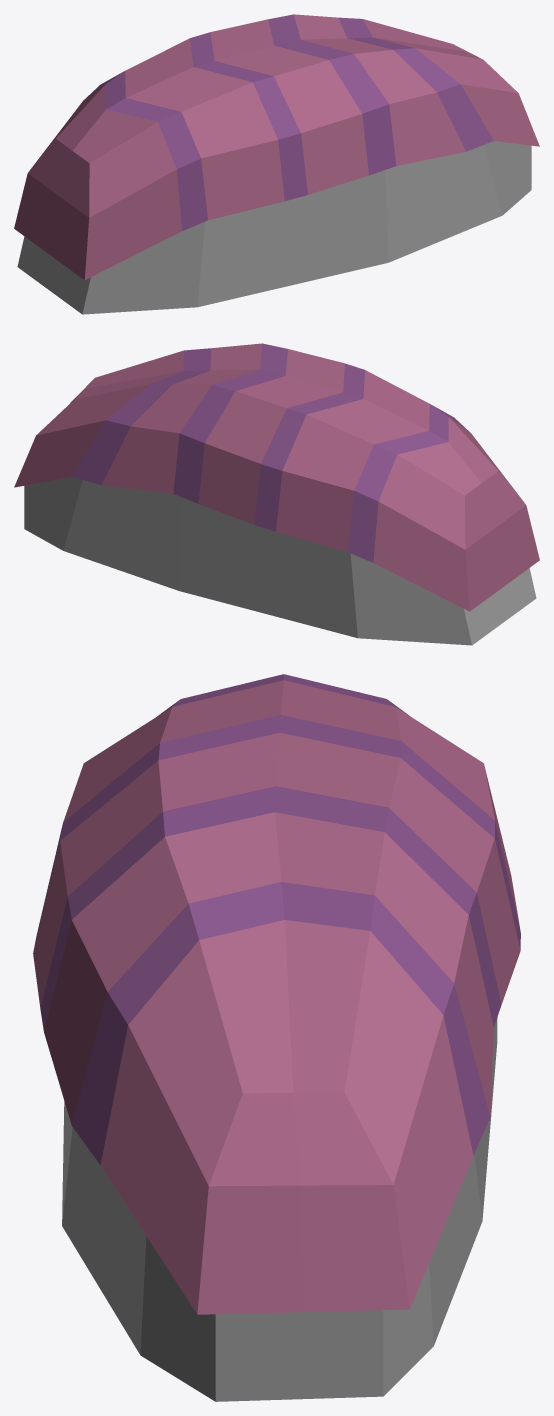
The model's file is quaternius-ultimate-food-sushi-nigiri-2.glb.
The picture shows the model from 3 angles, top to bottom: view 1: azimuth 30°, elevation 25°; view 2: azimuth 150°, elevation 25°; view 3: azimuth 270°, elevation 25°; orthographic projection. The views are drawn at different scales.
Visible parts, largest first — view 1: Sushi_Nigiri2; view 2: Sushi_Nigiri2; view 3: Sushi_Nigiri2.
Boxes of the visible parts, <box> form: Sushi_Nigiri2: <box>14,14,539,314</box>; Sushi_Nigiri2: <box>14,343,539,645</box>; Sushi_Nigiri2: <box>33,674,520,1401</box>.
Bounding box in the file's own units: 0.5976 × 0.2343 × 0.2715.
